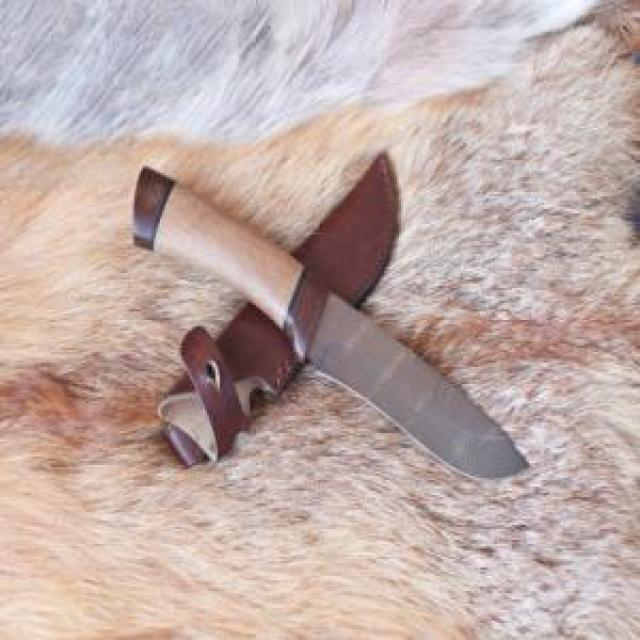knife: (130, 166, 532, 484)
